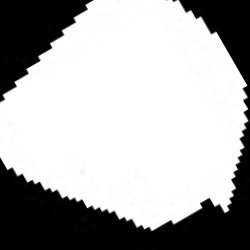spot: (1, 2, 247, 231)
